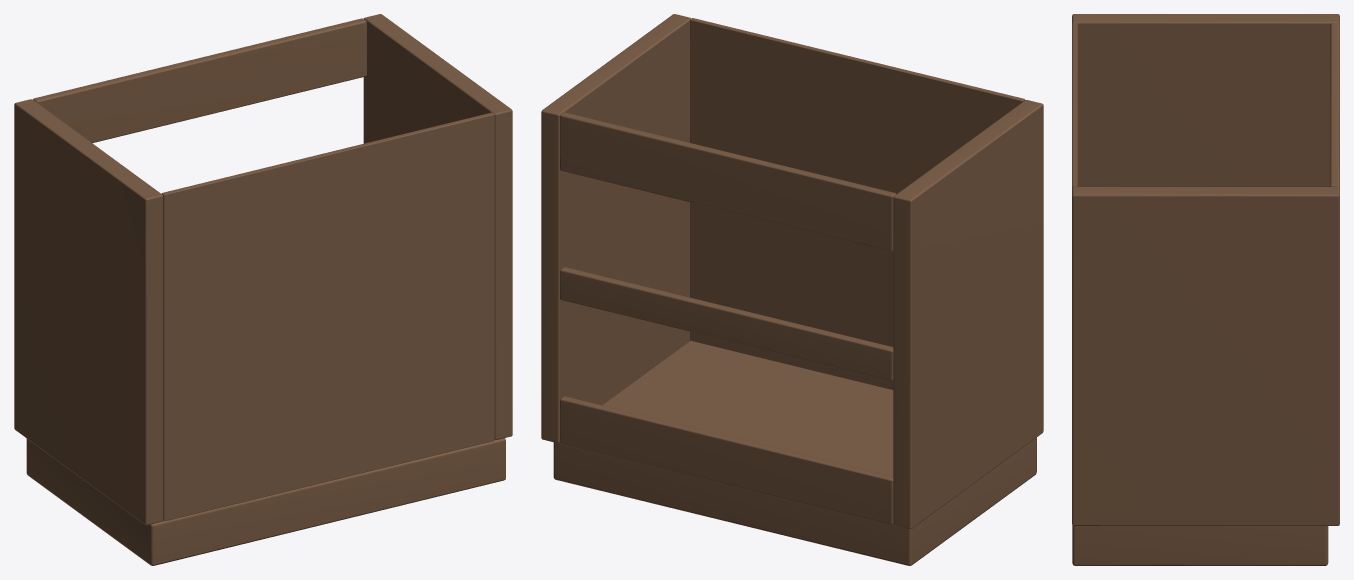
File: lp_case_vanity.glb
3 renders of one model, left to right at view 1: azimuth 30°, elevation 25°; view 2: azimuth 150°, elevation 25°; view 3: azimuth 270°, elevation 25°, orthographic.
Visible parts, largest first — view 1: lp_case_vanity; view 2: lp_case_vanity; view 3: lp_case_vanity.
Part boxes in pixels (x1,y1,x2,y2): lp_case_vanity: [14, 14, 512, 565]; lp_case_vanity: [541, 14, 1043, 565]; lp_case_vanity: [1072, 14, 1339, 565].
Bounding box in the file's own units: 0.9 × 0.865 × 0.56.
